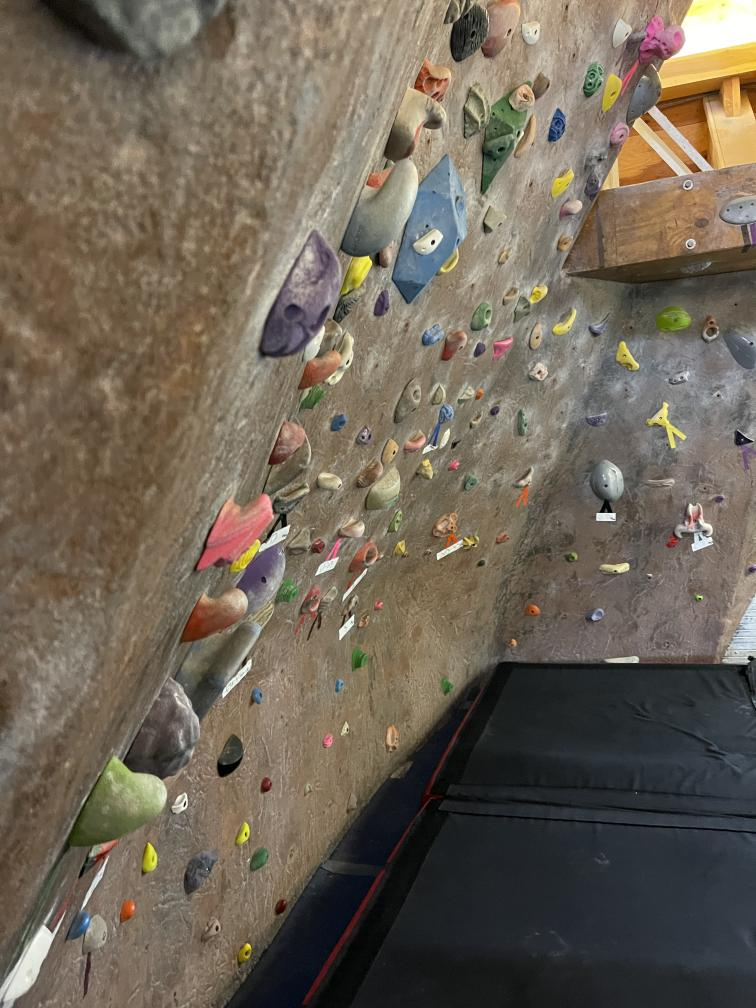Crimp: (410, 228, 449, 259), (639, 400, 676, 432), (520, 17, 545, 48), (494, 246, 518, 268), (328, 414, 350, 433), (463, 471, 481, 491), (359, 610, 371, 632), (489, 402, 503, 416), (474, 389, 486, 400)
Edges: (215, 726, 253, 782), (362, 467, 406, 513), (432, 384, 450, 406)
Foothold: (248, 842, 273, 878), (230, 939, 258, 968), (270, 897, 295, 918), (435, 675, 458, 697), (346, 789, 362, 816), (300, 778, 318, 802), (248, 686, 268, 706), (120, 900, 135, 924), (258, 774, 274, 794), (334, 670, 346, 695), (338, 721, 355, 738), (564, 551, 581, 567), (524, 604, 542, 619), (477, 557, 489, 571), (693, 593, 707, 603), (645, 572, 655, 584)
Hand-holds: (258, 238, 348, 358), (67, 752, 165, 856), (125, 684, 209, 773), (384, 93, 456, 159), (640, 15, 692, 66), (670, 501, 716, 545), (462, 80, 492, 142), (268, 422, 308, 465), (82, 912, 110, 958), (139, 836, 163, 883), (432, 506, 462, 543), (583, 169, 613, 202), (546, 108, 572, 143), (274, 577, 304, 607), (483, 204, 513, 234), (582, 60, 605, 98), (507, 85, 537, 113), (587, 310, 615, 338), (289, 525, 311, 560), (534, 72, 557, 102), (319, 583, 340, 615), (374, 289, 394, 320), (234, 818, 252, 852), (381, 437, 401, 466), (527, 359, 549, 384), (528, 320, 544, 354), (354, 645, 372, 675), (614, 120, 629, 152), (340, 594, 361, 616), (416, 458, 435, 482), (513, 298, 531, 322), (532, 282, 550, 305), (438, 403, 455, 426), (391, 538, 411, 557), (463, 530, 480, 552), (454, 192, 467, 220), (356, 425, 373, 446), (312, 535, 328, 555), (472, 340, 487, 360), (371, 598, 388, 614), (448, 458, 463, 474), (422, 544, 433, 558)
Jug: (169, 612, 269, 728), (339, 154, 425, 258), (186, 485, 281, 576), (178, 583, 254, 646), (440, 7, 493, 59), (412, 53, 454, 110), (484, 0, 523, 58), (297, 350, 346, 389), (276, 478, 312, 515), (515, 114, 543, 161), (437, 241, 468, 279), (482, 129, 516, 161), (601, 74, 626, 114), (167, 786, 193, 824), (614, 340, 642, 375), (68, 899, 91, 940), (549, 166, 578, 198), (442, 328, 467, 365), (336, 516, 374, 539), (491, 333, 519, 364), (611, 15, 633, 54), (552, 304, 577, 338), (582, 142, 611, 170), (512, 466, 537, 498), (404, 428, 428, 460), (552, 200, 586, 222), (384, 724, 405, 755), (730, 426, 756, 450), (628, 27, 650, 52), (585, 410, 613, 429), (555, 233, 575, 253), (320, 728, 336, 753), (502, 284, 519, 306), (469, 408, 484, 430), (492, 532, 512, 548), (505, 638, 520, 652)
Pinch: (354, 457, 388, 488), (315, 468, 346, 496), (597, 560, 633, 579), (665, 370, 698, 388), (422, 321, 444, 348), (457, 386, 474, 404)
Pocket: (391, 374, 424, 427), (355, 536, 381, 580), (467, 299, 495, 334), (694, 312, 722, 346), (300, 585, 327, 617), (583, 605, 605, 624), (390, 510, 403, 536)
Sloper: (180, 841, 230, 903), (625, 64, 674, 125), (589, 455, 626, 505), (723, 325, 756, 370), (656, 306, 693, 338), (516, 407, 532, 442), (439, 428, 453, 451)
